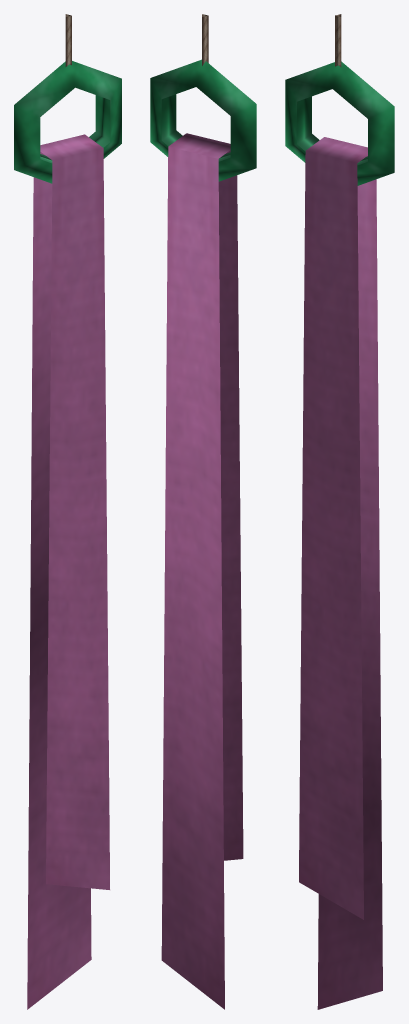
The model's file is Scene_Build_HuanYinFang_BuLian_1.FBX.
The picture shows the model from 3 angles, left to right: view 1: azimuth 30°, elevation 25°; view 2: azimuth 150°, elevation 25°; view 3: azimuth 330°, elevation 25°; orthographic projection. The views are drawn at different scales.
Visible parts, largest first — view 1: Scene_Build_HuanYinFang_BuLian_1c, Scene_Build_HuanYinFang_BuLian_1b, Scene_Build_HuanYinFang_BuLian_1a; view 2: Scene_Build_HuanYinFang_BuLian_1c, Scene_Build_HuanYinFang_BuLian_1b, Scene_Build_HuanYinFang_BuLian_1a; view 3: Scene_Build_HuanYinFang_BuLian_1c, Scene_Build_HuanYinFang_BuLian_1b, Scene_Build_HuanYinFang_BuLian_1a.
Part boxes in pixels (<box>): Scene_Build_HuanYinFang_BuLian_1c: <box>27,134,109,1009</box>; Scene_Build_HuanYinFang_BuLian_1b: <box>14,61,121,183</box>; Scene_Build_HuanYinFang_BuLian_1a: <box>65,14,71,66</box>; Scene_Build_HuanYinFang_BuLian_1c: <box>161,133,243,1009</box>; Scene_Build_HuanYinFang_BuLian_1b: <box>150,59,256,181</box>; Scene_Build_HuanYinFang_BuLian_1a: <box>202,14,208,65</box>; Scene_Build_HuanYinFang_BuLian_1c: <box>299,137,382,1009</box>; Scene_Build_HuanYinFang_BuLian_1b: <box>285,61,394,185</box>; Scene_Build_HuanYinFang_BuLian_1a: <box>335,14,341,67</box>.
Bounding box in the file's own units: 113 × 994 × 33.79.
